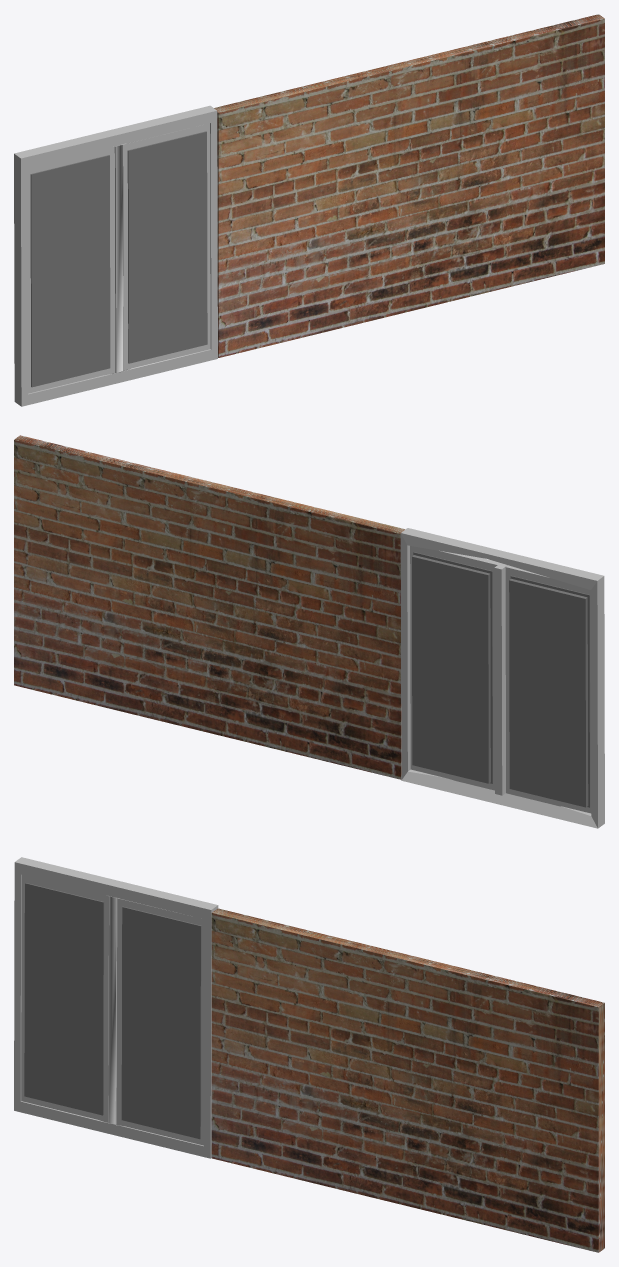
The model's file is 2-Part_Window_w_BrickWall.FBX.
3 renders of one model, top to bottom at view 1: azimuth 30°, elevation 25°; view 2: azimuth 150°, elevation 25°; view 3: azimuth 330°, elevation 25°, orthographic.
Parts seen in each view (by area): view 1: Box001, Plane002, Window_Frame, Window_Pane; view 2: Box001, Plane002, Window_Frame, Window_Pane; view 3: Box001, Plane002, Window_Frame, Window_Pane.
Part boxes in pixels (x1,y1,x2,y2): Box001: (214,14,604,357); Plane002: (30,131,207,387); Window_Frame: (14,105,217,406); Window_Pane: (27,123,210,393); Box001: (14,435,404,779); Plane002: (412,552,590,807); Window_Frame: (400,528,604,828); Window_Pane: (410,546,591,813); Box001: (211,908,604,1252); Plane002: (24,883,201,1139); Window_Frame: (14,857,218,1158); Window_Pane: (21,875,204,1145).
Size of the model in its own units: 30.09 by 12.21 by 0.7905.
3 materials, 1 textured.
